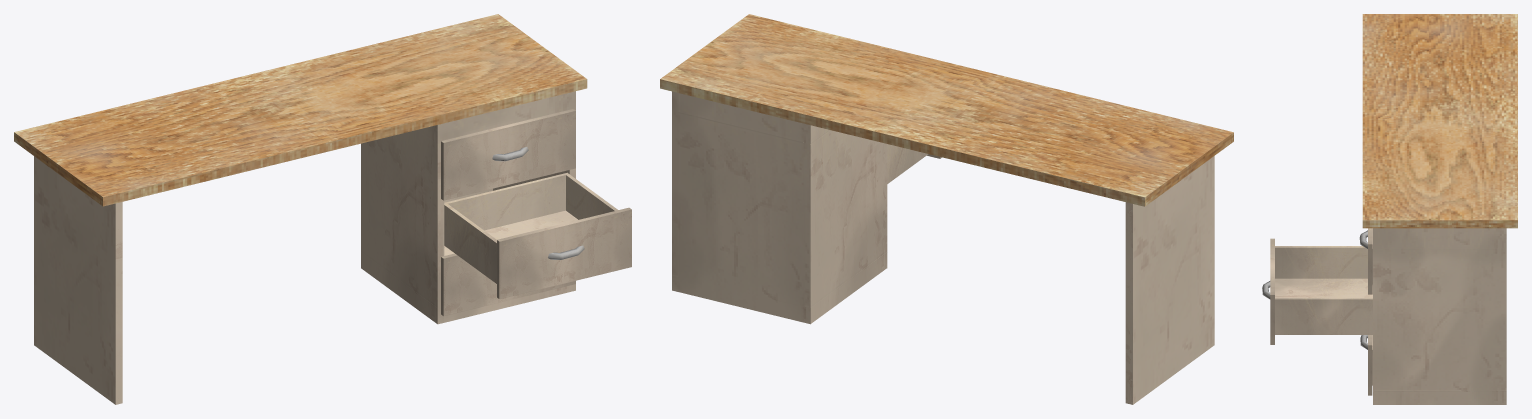
The model's file is Desk1_Drawer2_CLOSED.fbx.
The picture shows the model from 3 angles, left to right: view 1: azimuth 30°, elevation 25°; view 2: azimuth 150°, elevation 25°; view 3: azimuth 270°, elevation 25°; orthographic projection. The views are drawn at different scales.
Visible parts, largest first — view 1: Desk, polySurface50, polySurface46, polySurface54; view 2: Desk, polySurface50; view 3: Desk, polySurface50, polySurface46, polySurface54.
Boxes of the visible parts, x1,y1,x2,y2 form: Desk: (14, 14, 587, 404); polySurface50: (444, 172, 631, 299); polySurface46: (441, 109, 575, 200); polySurface54: (441, 246, 575, 316); Desk: (660, 14, 1233, 404); polySurface50: (887, 144, 941, 183); Desk: (1362, 14, 1517, 404); polySurface50: (1262, 238, 1372, 344); polySurface46: (1359, 228, 1372, 294); polySurface54: (1360, 335, 1372, 395).
Size of the model in its own units: 8.44 by 3.57 by 4.43.
Materials: 1 (1 with a texture image).
